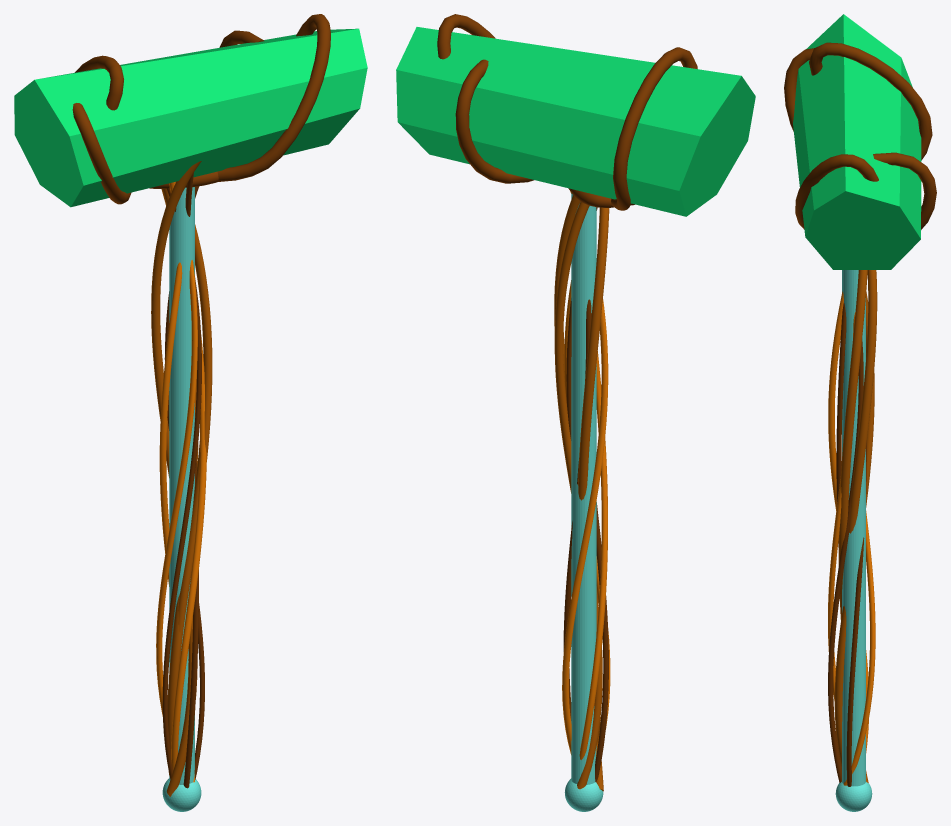
File: MazoDeJade.fbx
The picture shows the model from 3 angles, left to right: view 1: azimuth 30°, elevation 25°; view 2: azimuth 150°, elevation 25°; view 3: azimuth 270°, elevation 25°; orthographic projection. The views are drawn at different scales.
Visible parts, largest first — view 1: Cabeza, Cylinder, BezierCurve, Rama2, NurbsPath.003, NurbsPath.002, NurbsPath.006, NurbsPath.001, NurbsPath, rama, NurbsPath.004, NurbsPath.005 (+2 smaller); view 2: Cabeza, Cylinder, rama, NurbsPath.005, NurbsPath, Rama2, NurbsPath.003, BezierCurve, NurbsPath.001, NurbsPath.007, Icosphere, NurbsPath.002 (+1 smaller); view 3: Cabeza, Cylinder, rama, NurbsPath.002, NurbsPath.005, BezierCurve, NurbsPath.004, Rama2, NurbsPath, NurbsPath.003, NurbsPath.007, NurbsPath.001 (+2 smaller).
Part boxes in pixels (left/top/right/bottom): Cabeza: left=14, top=28, right=367, bottom=207; Cylinder: left=169, top=187, right=194, bottom=784; BezierCurve: left=72, top=14, right=330, bottom=204; Rama2: left=151, top=161, right=201, bottom=796; NurbsPath.003: left=156, top=260, right=197, bottom=716; NurbsPath.002: left=178, top=224, right=212, bottom=660; NurbsPath.006: left=169, top=182, right=206, bottom=769; NurbsPath.001: left=162, top=188, right=201, bottom=779; NurbsPath: left=159, top=262, right=194, bottom=782; rama: left=75, top=30, right=264, bottom=188; NurbsPath.004: left=183, top=172, right=198, bottom=788; NurbsPath.005: left=161, top=189, right=198, bottom=774; Cabeza: left=396, top=27, right=755, bottom=216; Cylinder: left=571, top=193, right=596, bottom=784; rama: left=455, top=47, right=697, bottom=210; NurbsPath.005: left=554, top=202, right=602, bottom=789; NurbsPath: left=562, top=191, right=608, bottom=754; Rama2: left=578, top=207, right=609, bottom=791; NurbsPath.003: left=579, top=351, right=607, bottom=759; BezierCurve: left=437, top=14, right=634, bottom=207; NurbsPath.001: left=595, top=207, right=608, bottom=781; NurbsPath.007: left=563, top=299, right=591, bottom=720; Icosphere: left=564, top=778, right=603, bottom=811; NurbsPath.002: left=554, top=195, right=598, bottom=705; Cabeza: left=793, top=14, right=921, bottom=269; Cylinder: left=842, top=270, right=865, bottom=786; rama: left=809, top=42, right=936, bottom=229; NurbsPath.002: left=838, top=270, right=867, bottom=619; NurbsPath.005: left=849, top=270, right=877, bottom=782; BezierCurve: left=784, top=48, right=878, bottom=229; NurbsPath.004: left=828, top=339, right=863, bottom=782; Rama2: left=834, top=292, right=874, bottom=767; NurbsPath: left=843, top=511, right=875, bottom=785; NurbsPath.003: left=828, top=291, right=868, bottom=752; NurbsPath.007: left=846, top=441, right=866, bottom=786; NurbsPath.001: left=836, top=303, right=846, bottom=547.
Bounding box in the file's own units: 1109 × 2525 × 479.
